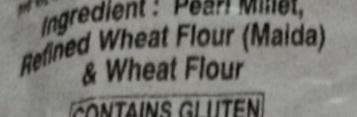ingredients: (14, 0, 357, 99)
